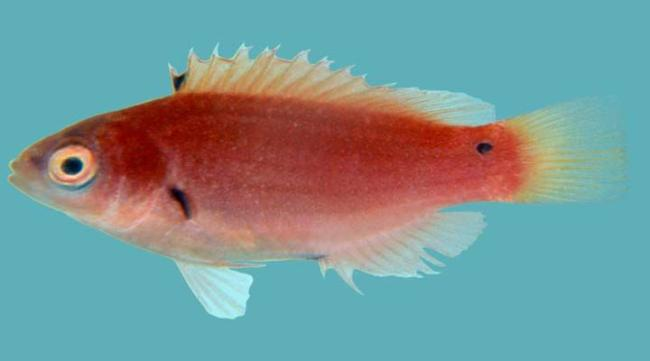fish: (9, 42, 626, 319)
